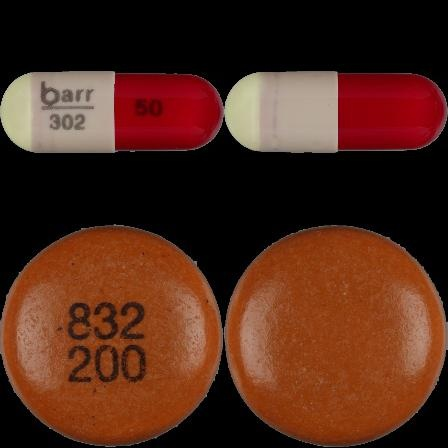64725-0302: (0, 0, 224, 224)
